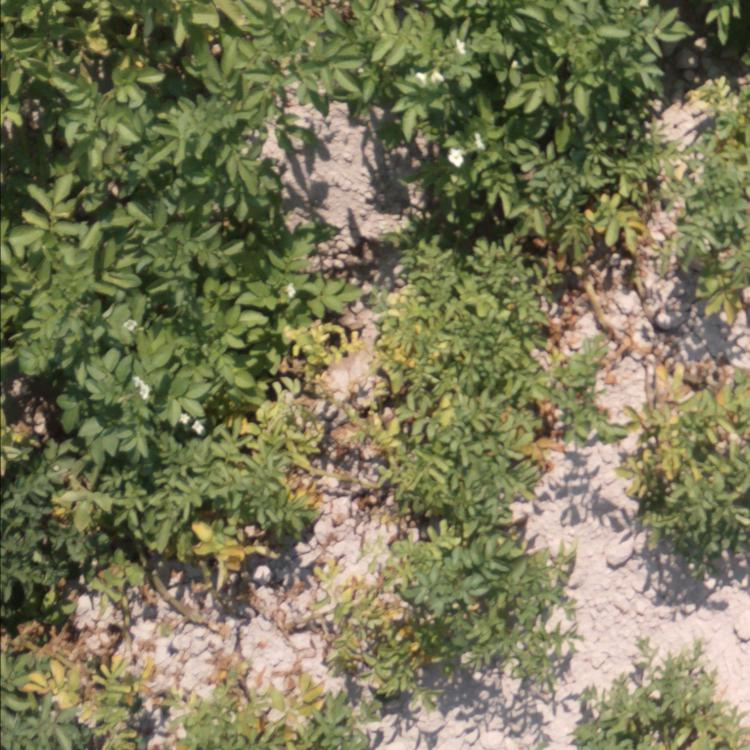healthy: (1, 1, 241, 386), (247, 1, 738, 95), (420, 100, 614, 188), (574, 665, 745, 750)
stressed: (1, 396, 250, 587), (361, 327, 531, 536), (9, 639, 331, 748), (350, 548, 555, 694), (390, 200, 621, 325), (264, 228, 355, 545), (623, 108, 750, 319), (622, 363, 750, 559)
